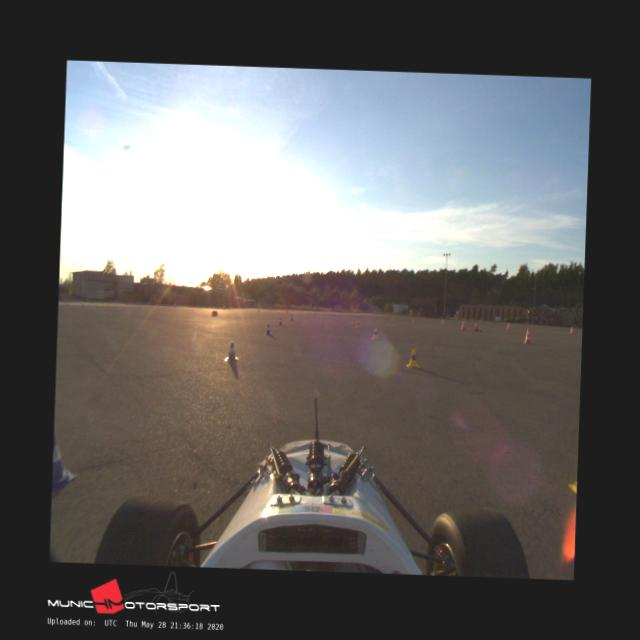blue_cone: (51, 432, 78, 491), (223, 342, 240, 362), (264, 324, 272, 334)
yellow_cone: (406, 349, 420, 369), (371, 328, 379, 339)
